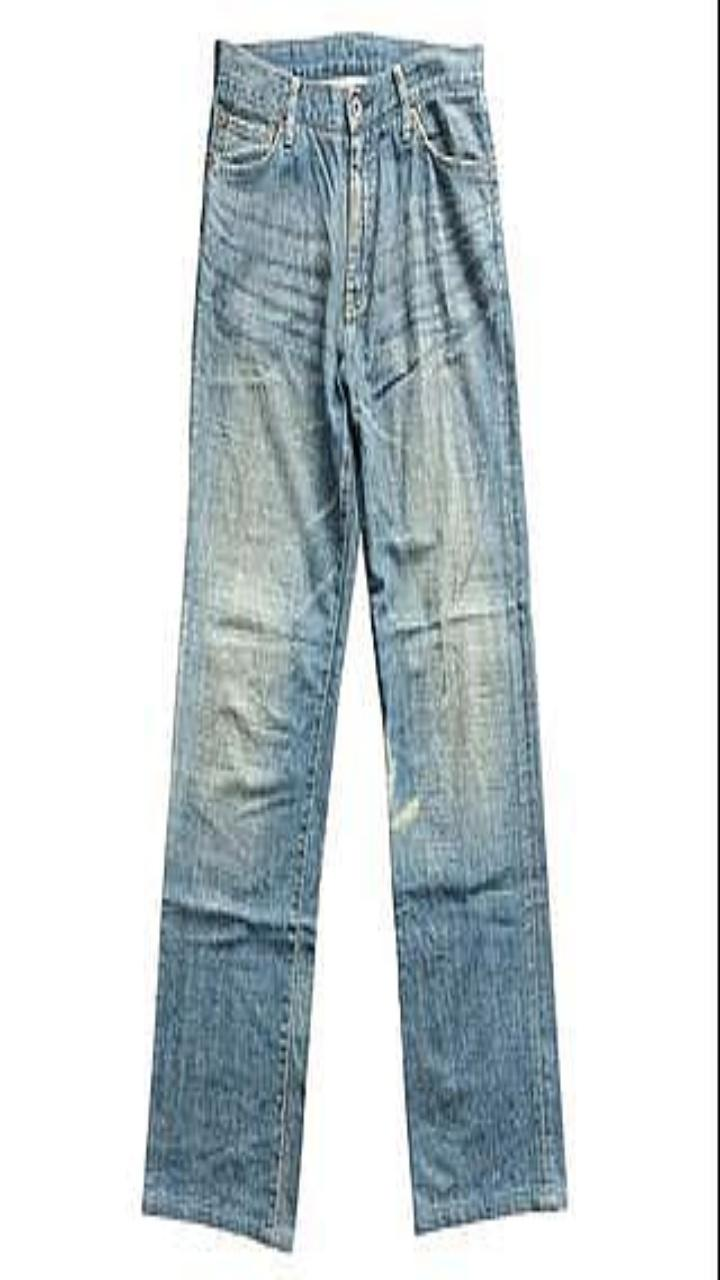Jeans: (143, 34, 565, 1249)
